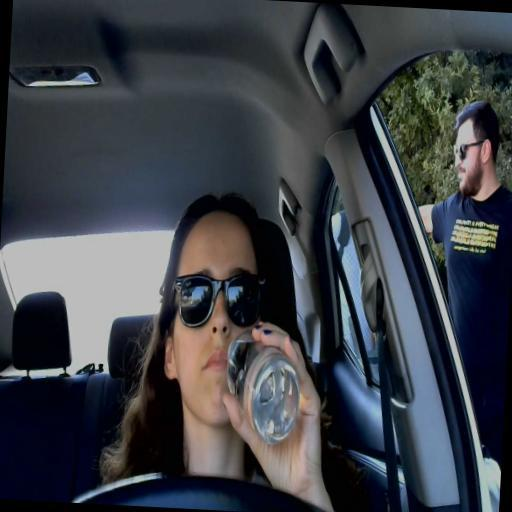Drinking: (163, 212, 313, 461)
